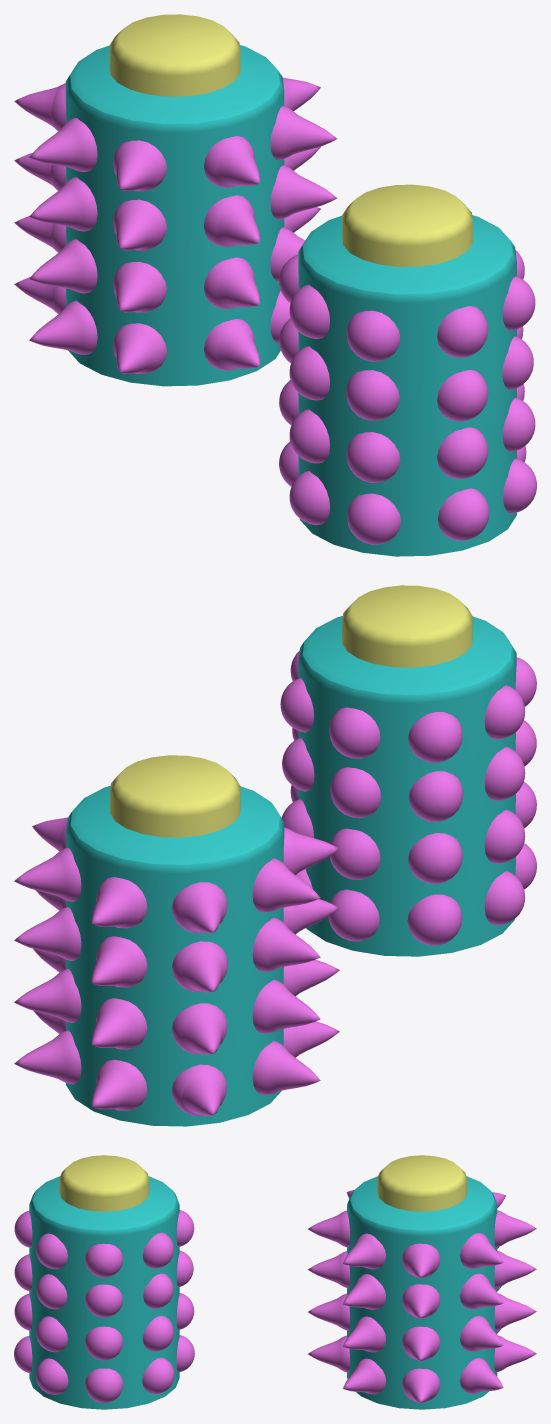
File: Obstacle04.fbx
The picture shows the model from 3 angles, top to bottom: view 1: azimuth 30°, elevation 25°; view 2: azimuth 150°, elevation 25°; view 3: azimuth 270°, elevation 25°; orthographic projection. The views are drawn at different scales.
Parts seen in each view (by area): view 1: Obstacle04_2_Part02_msh, Obstacle04_1_Part02_msh, Pic_msh, Obstacle04_2_Sphere_msh, Obstacle04_1_Part01_msh, Obstacle04_2_Part01_msh; view 2: Obstacle04_1_Part02_msh, Obstacle04_2_Part02_msh, Pic_msh, Obstacle04_2_Sphere_msh, Obstacle04_2_Part01_msh, Obstacle04_1_Part01_msh, pSphere73, pSphere74, pSphere23; view 3: Obstacle04_2_Part02_msh, Obstacle04_1_Part02_msh, Pic_msh, Obstacle04_2_Sphere_msh, Obstacle04_1_Part01_msh, Obstacle04_2_Part01_msh, pSphere73, pSphere74.
Part boxes in pixels (x1=…): Obstacle04_2_Part02_msh: x1=298, y1=215, x2=516, y2=556; Obstacle04_1_Part02_msh: x1=65, y1=45, x2=284, y2=386; Pic_msh: x1=14, y1=77, x2=337, y2=373; Obstacle04_2_Sphere_msh: x1=279, y1=250, x2=536, y2=544; Obstacle04_1_Part01_msh: x1=109, y1=14, x2=240, y2=96; Obstacle04_2_Part01_msh: x1=342, y1=184, x2=472, y2=266; Obstacle04_1_Part02_msh: x1=66, y1=786, x2=284, y2=1126; Obstacle04_2_Part02_msh: x1=298, y1=616, x2=516, y2=956; Pic_msh: x1=14, y1=817, x2=339, y2=1115; Obstacle04_2_Sphere_msh: x1=280, y1=651, x2=536, y2=945; Obstacle04_2_Part01_msh: x1=342, y1=585, x2=472, y2=667; Obstacle04_1_Part01_msh: x1=110, y1=755, x2=240, y2=837; pSphere73: x1=14, y1=969, x2=81, y2=1022; pSphere74: x1=14, y1=1030, x2=81, y2=1084; pSphere23: x1=172, y1=1064, x2=225, y2=1115; Obstacle04_2_Part02_msh: x1=29, y1=1176, x2=179, y2=1409; Obstacle04_1_Part02_msh: x1=347, y1=1176, x2=497, y2=1409; Pic_msh: x1=308, y1=1190, x2=536, y2=1403; Obstacle04_2_Sphere_msh: x1=14, y1=1210, x2=194, y2=1403; Obstacle04_1_Part01_msh: x1=377, y1=1155, x2=467, y2=1211; Obstacle04_2_Part01_msh: x1=59, y1=1155, x2=149, y2=1211; pSphere73: x1=460, y1=1316, x2=503, y2=1351; pSphere74: x1=460, y1=1358, x2=503, y2=1393.
Bounding box in the file's own units: 3.05 × 3.03 × 6.96.
